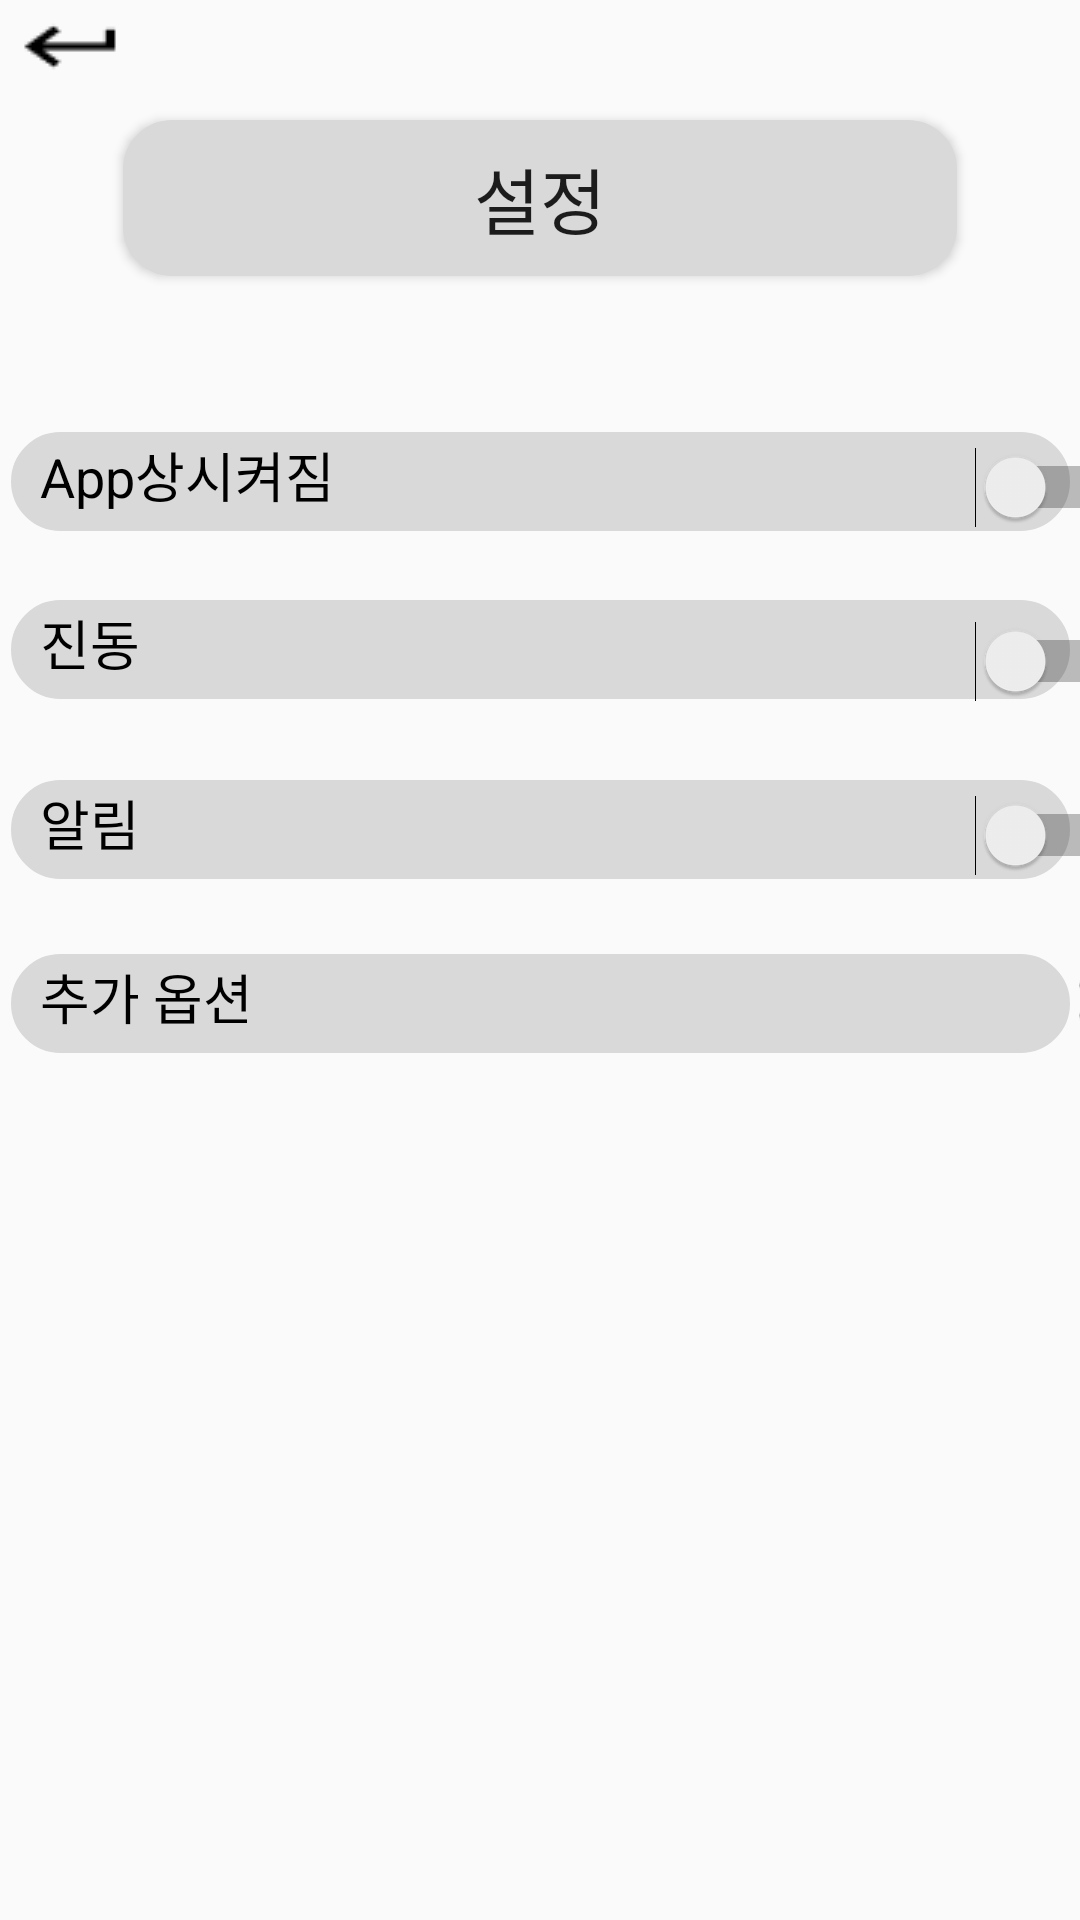

Named icons in this screenshot (1080×1920) and their centers, point (x, y):
keyboard return: point (70, 47)
